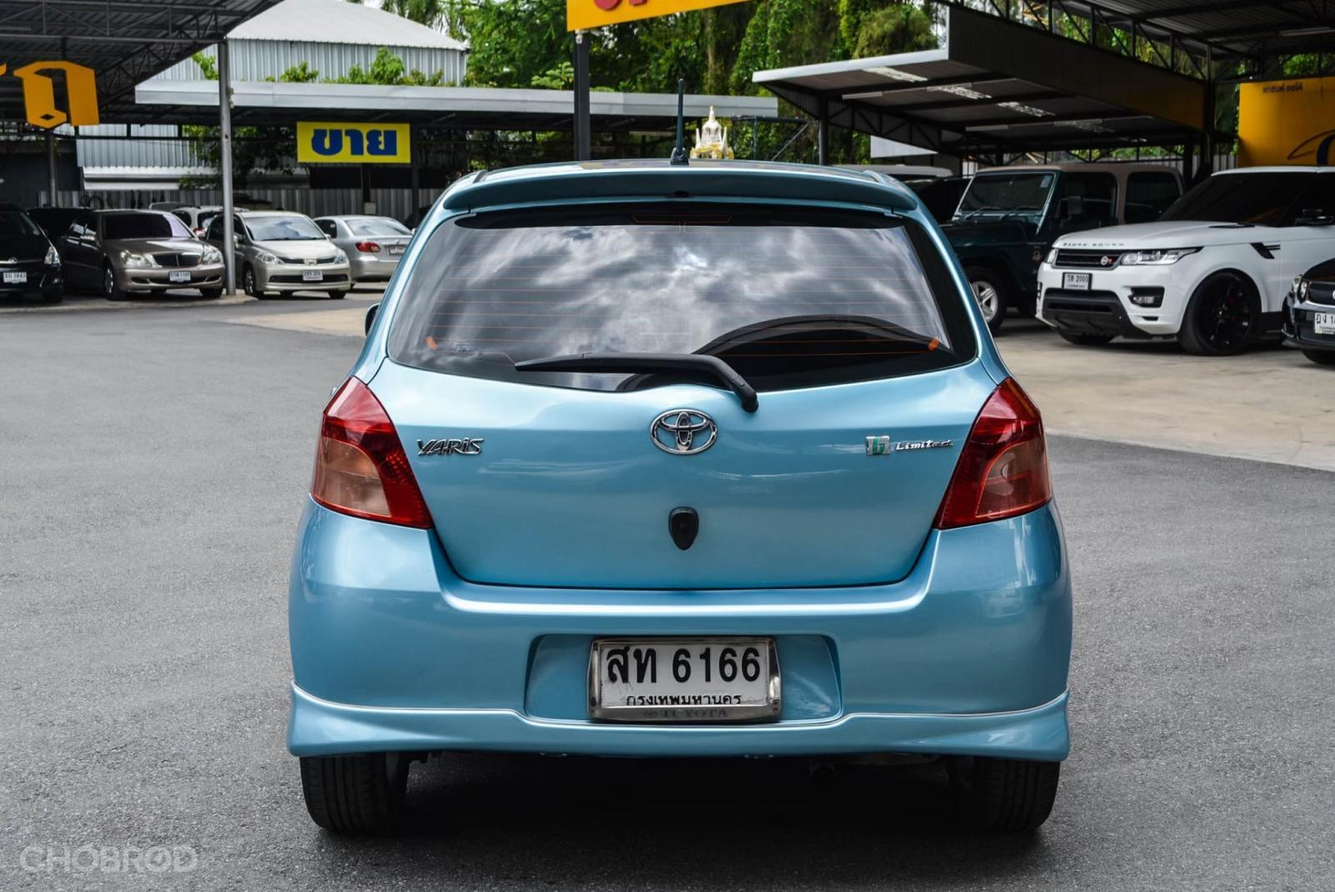license-plate: (585, 630, 789, 728), (1060, 268, 1096, 289), (1313, 306, 1335, 334), (3, 267, 27, 287), (167, 269, 194, 286), (298, 270, 327, 284)
